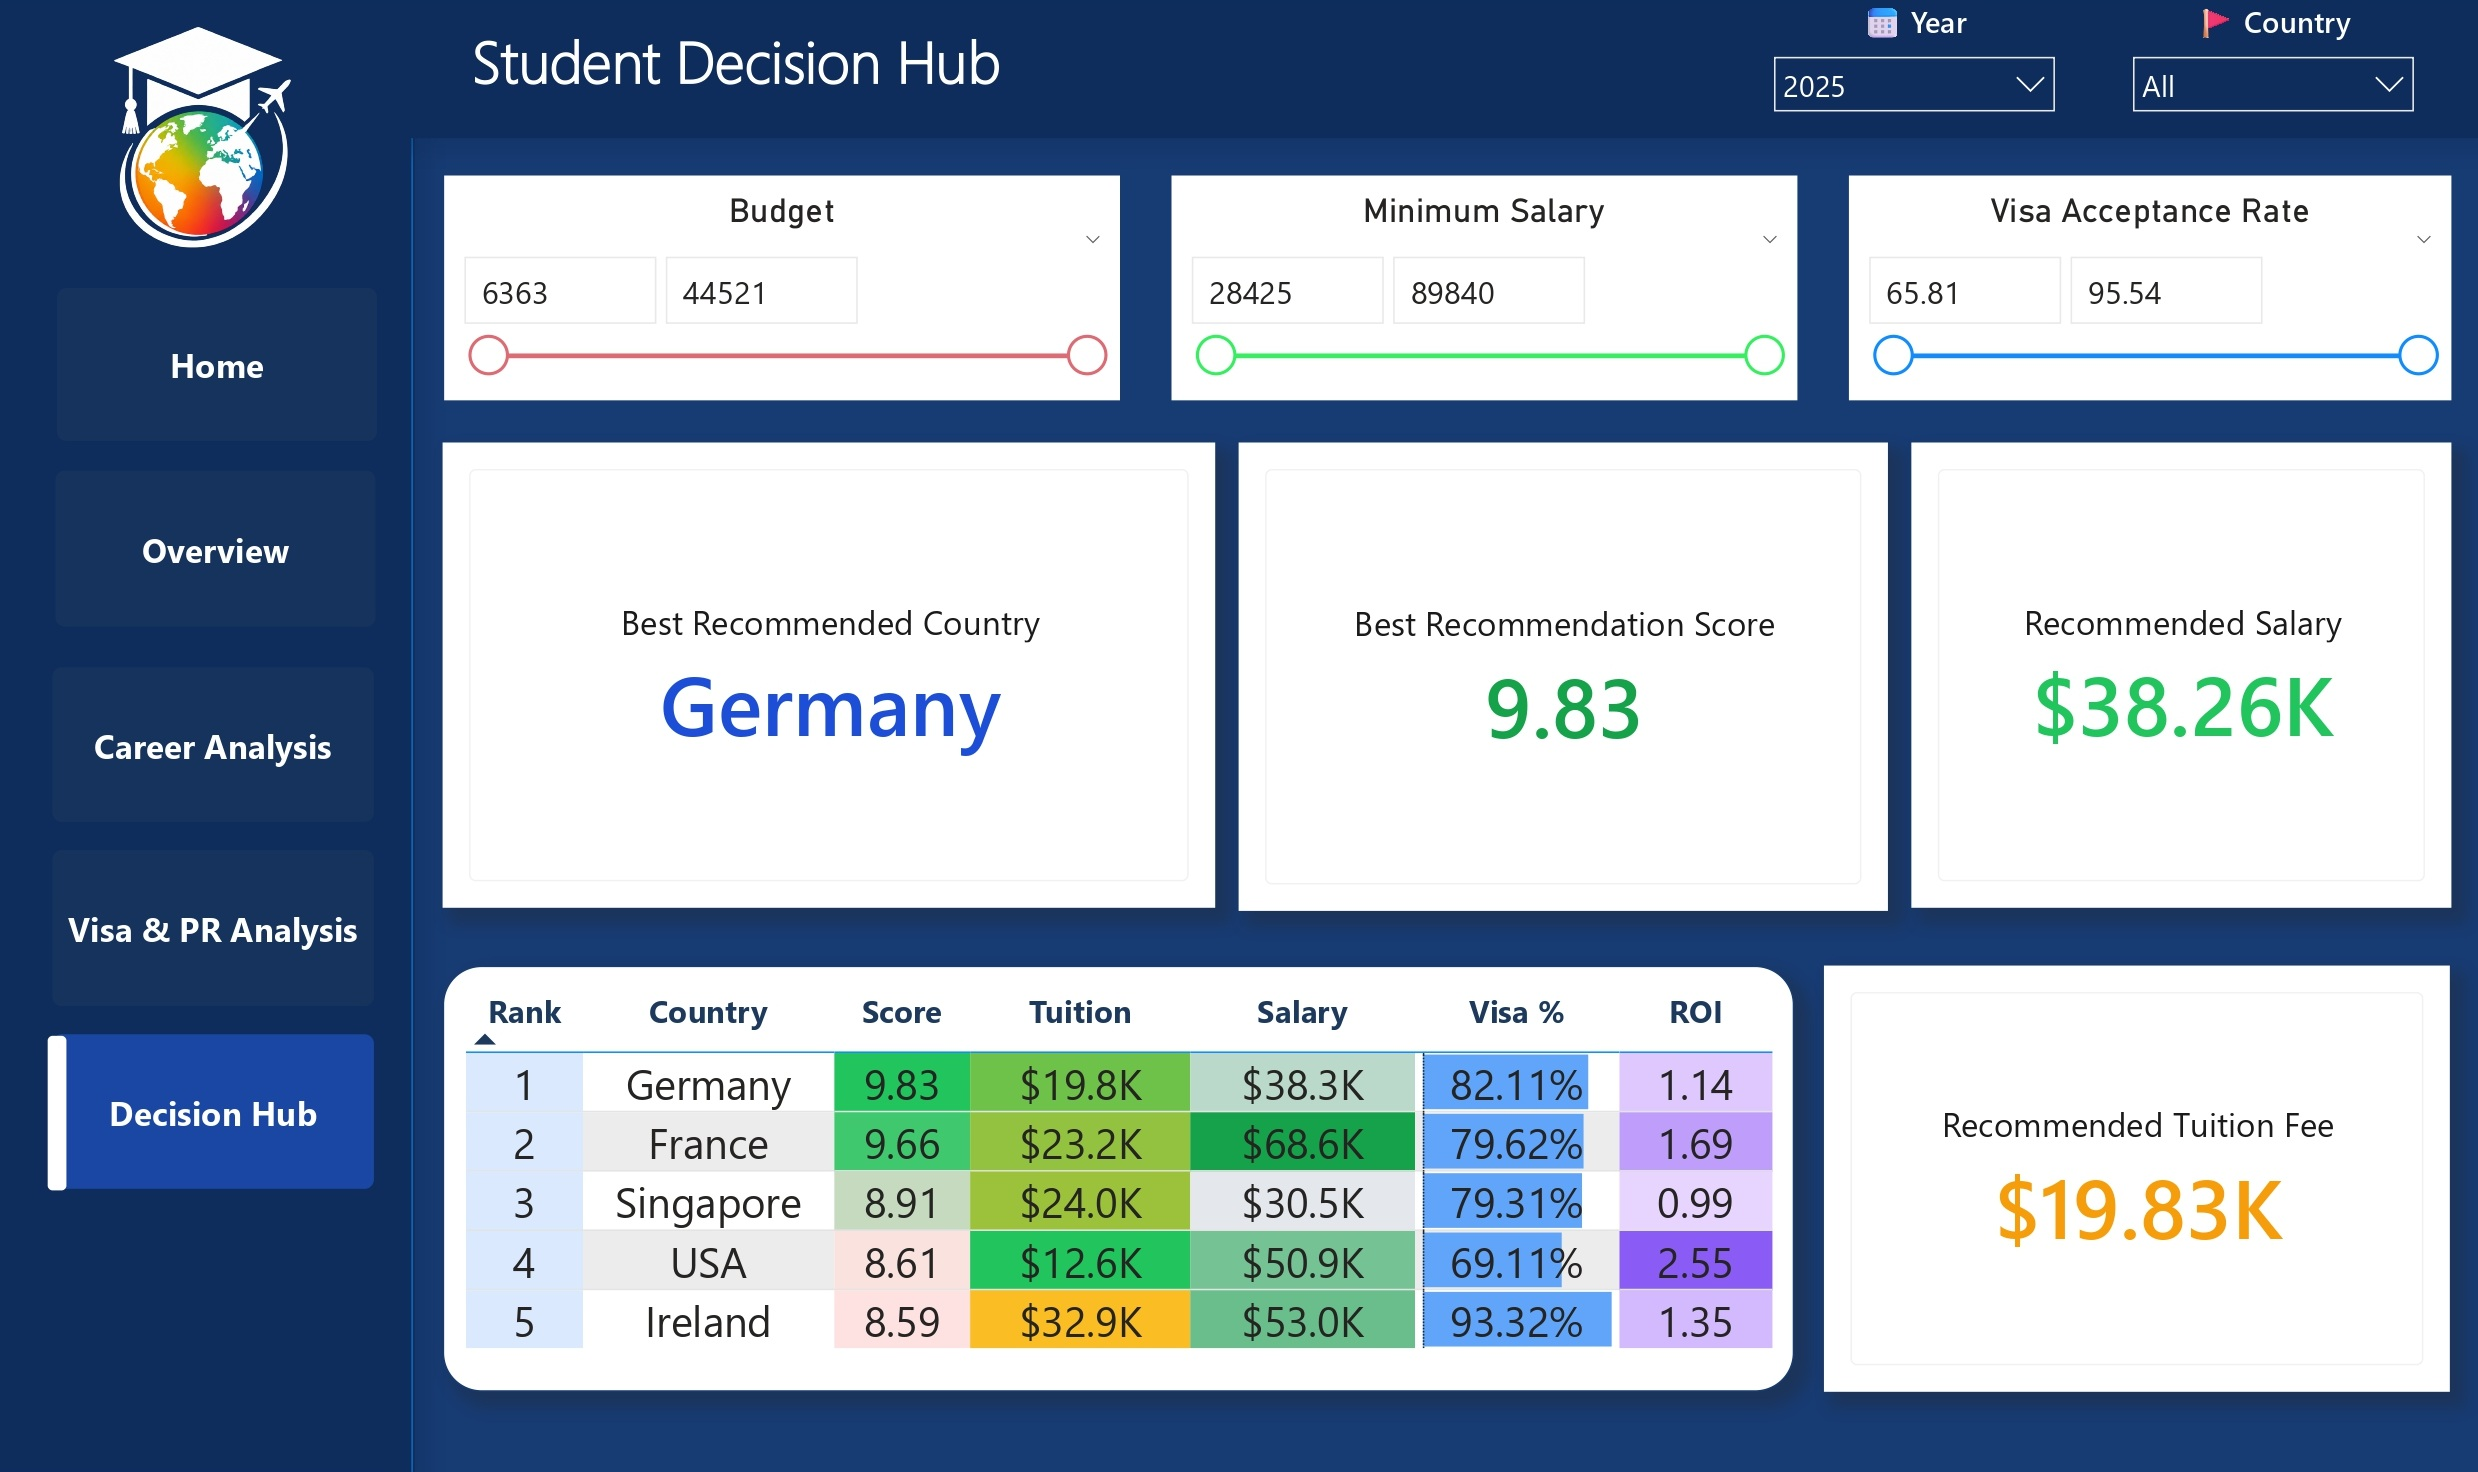

What the dashboard file says about the page in this screenshot:
{"tool":"powerbi","page":{"name":"Student Decision Hub ","canvas":[1600,950],"ordinal":4},"visuals":[{"type":"slicer","title":"Budget","fields":{"Values":["study_abroad_features_latest.Tuition_Fee_USD"]},"box":[292.6,114,433.2,144.4],"z":0},{"type":"actionButton","box":[45,186.4,205,98.3],"z":0,"group":"g2"},{"type":"shape","box":[0,64.6,273.8,885.9],"z":1000,"group":"g1"},{"type":"slicer","title":"Minimum Salary","fields":{"Values":["study_abroad_features_latest.Average_Graduate_Salary_USD"]},"box":[759.1,114,400.9,144.4],"z":1000},{"type":"actionButton","box":[43.4,303.1,205,100],"z":1000,"group":"g2"},{"type":"slicer","title":"Visa Acceptance Rate","fields":{"Values":["study_abroad_features_latest.Visa_Acceptance_Rate"]},"box":[1193.2,114,385.7,144.4],"z":2000},{"type":"actionButton","box":[41.7,428.9,205.7,99.8],"z":2000,"group":"g2"},{"type":"shape","box":[0,0,1600,90.1],"z":3000,"group":"g1"},{"type":"actionButton","box":[41.7,546.4,205.7,99.8],"z":3000,"group":"g2"},{"type":"tableEx","title":"ROI  Score by Country","fields":{"Values":["study_abroad_features_latest.Recommendation Rank","study_abroad_features_latest.Country_Display","study_abroad_features_latest.Recommendation Score","study_abroad_features_latest.Avg Tuition Fee","study_abroad_features_latest.Avg Graduate Salary","study_abroad_features_latest.Avg Visa Acceptance","study_abroad_features_latest.Avg ROI"]},"box":[291.7,620,866.7,273.3],"z":3000},{"type":"group","id":"g1","title":"Complete Nav","box":[0,0,1600,950.5],"z":4000},{"type":"actionButton","box":[41.7,663.9,205.7,99.8],"z":4000,"group":"g2"},{"type":"shape","box":[38.6,665,12.3,98.6],"z":5000},{"type":"cardVisual","fields":{"Data":["study_abroad_features_latest.Best Recommended Country"]},"box":[291.7,285,495,298.3],"z":6000},{"type":"cardVisual","fields":{"Data":["study_abroad_features_latest.Best Recommendation Score"]},"box":[801.8,285,416.1,300.2],"z":7000},{"type":"cardVisual","fields":{"Data":["study_abroad_features_latest.Recommended Tuition Fee"]},"box":[1176.7,620,401.7,273.3],"z":8000},{"type":"cardVisual","fields":{"Data":["study_abroad_features_latest.Best Salary"]},"box":[1233.1,285,345.8,298.3],"z":9000},{"type":"slicer","title":"🚩 Country","fields":{"Values":["study_abroad_features_latest.Country"]},"box":[1365,3.3,200,80],"z":11000,"group":"g1"},{"type":"slicer","title":"📅 Year","fields":{"Values":["study_abroad_features_latest.Year"]},"box":[1135,3.3,200,80],"z":12000,"group":"g1"},{"type":"image","box":[22.8,0,224.2,180.5],"z":13000},{"type":"group","id":"g2","title":"Navigation Buttons","box":[41.7,186.4,208.3,577.3],"z":14000,"group":"g1"},{"type":"textbox","title":"Heading","box":[306.1,10.2,578.1,64.6],"z":14500,"group":"g1"}]}

Visuals, with their boxes in screenshot pixels (x1, y1, x2, y2), scaled from the page's 1600x950 canvas onto the 2478x1472 screenshot:
"Budget" slicer: <bbox>453, 177, 1124, 400</bbox>
actionButton: <bbox>70, 289, 387, 441</bbox>
shape: <bbox>0, 100, 424, 1471</bbox>
"Minimum Salary" slicer: <bbox>1176, 177, 1797, 400</bbox>
actionButton: <bbox>67, 470, 385, 625</bbox>
"Visa Acceptance Rate" slicer: <bbox>1848, 177, 2445, 400</bbox>
actionButton: <bbox>65, 665, 383, 819</bbox>
shape: <bbox>0, 0, 2477, 140</bbox>
actionButton: <bbox>65, 847, 383, 1001</bbox>
"ROI  Score by Country" tableEx: <bbox>452, 961, 1794, 1384</bbox>
"Complete Nav" group: <bbox>0, 0, 2477, 1471</bbox>
actionButton: <bbox>65, 1029, 383, 1183</bbox>
shape: <bbox>60, 1030, 79, 1183</bbox>
cardVisual - study_abroad_features_latest.Best Recommended Country: <bbox>452, 442, 1218, 904</bbox>
cardVisual - study_abroad_features_latest.Best Recommendation Score: <bbox>1242, 442, 1886, 907</bbox>
cardVisual - study_abroad_features_latest.Recommended Tuition Fee: <bbox>1822, 961, 2445, 1384</bbox>
cardVisual - study_abroad_features_latest.Best Salary: <bbox>1910, 442, 2445, 904</bbox>
"🚩 Country" slicer: <bbox>2114, 5, 2424, 129</bbox>
"📅 Year" slicer: <bbox>1758, 5, 2068, 129</bbox>
image: <bbox>35, 0, 383, 280</bbox>
"Navigation Buttons" group: <bbox>65, 289, 387, 1183</bbox>
"Heading" textbox: <bbox>474, 16, 1369, 116</bbox>
